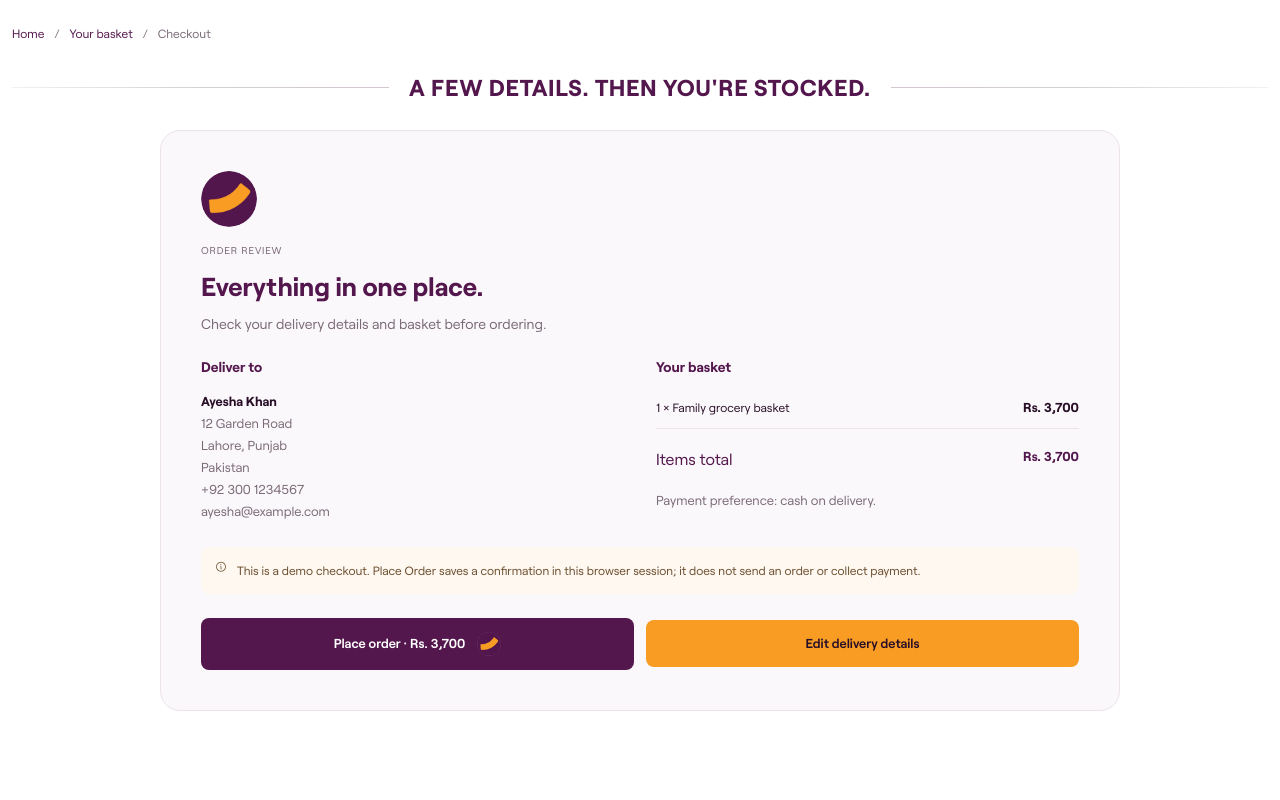
Test case: Branded checkout › places a reviewed demo order once, saves its receipt and clears the basket
Click the button "Place order · Rs. 3,700": [418, 644] box [201,618,634,670]
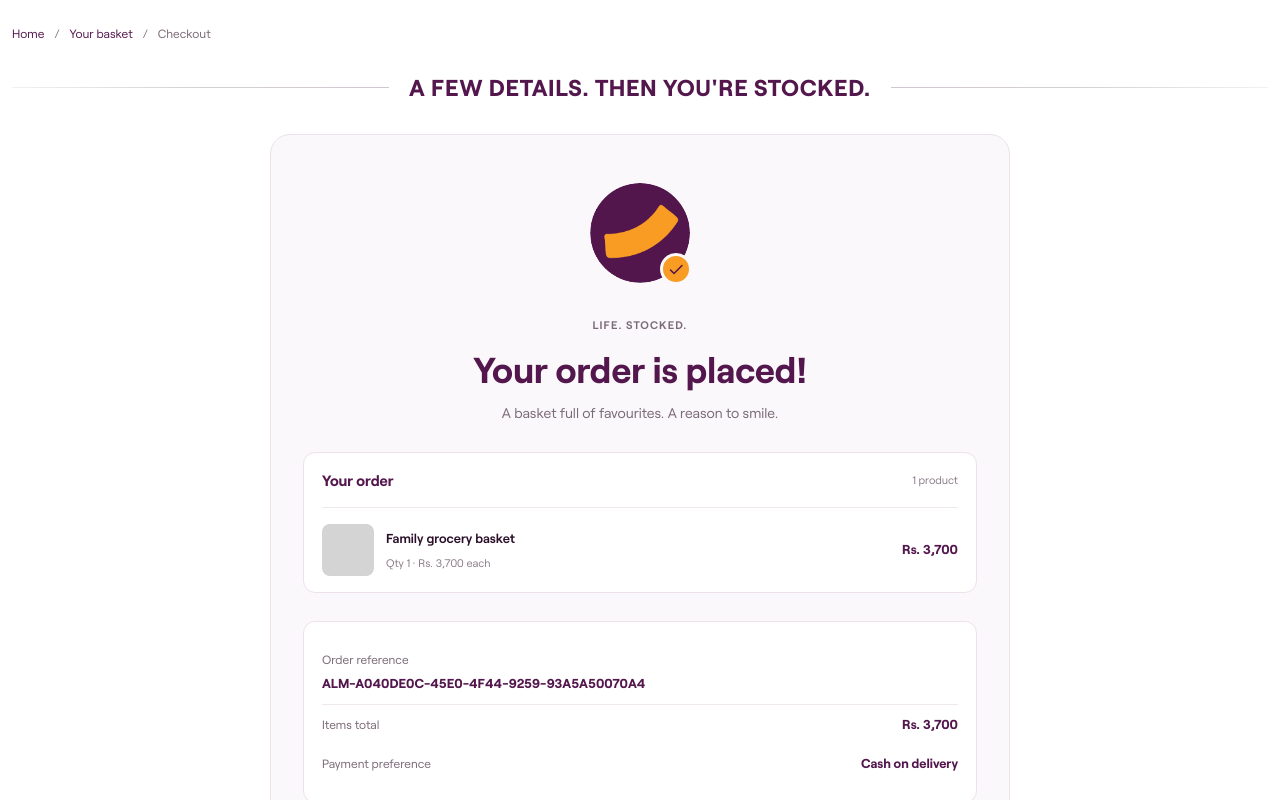
Check: the element with class "order-confirmation" shows "Your order is placed!", box [473,347,807,390]
